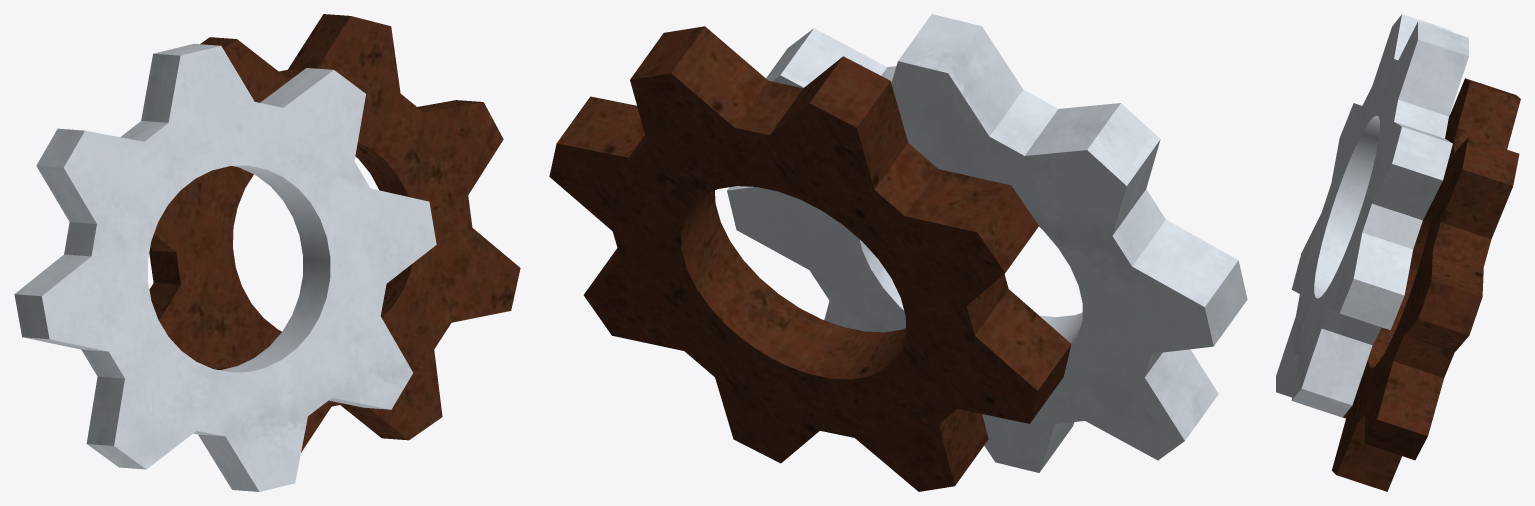
File: gear.glb
3 renders of one model, left to right at view 1: azimuth 30°, elevation 25°; view 2: azimuth 150°, elevation 25°; view 3: azimuth 270°, elevation 25°, orthographic. The views are drawn at different scales.
Parts seen in each view (by area): view 1: Gear, GearRust; view 2: GearRust, Gear; view 3: Gear, GearRust.
Part boxes in pixels (x1,y1,x2,y2): Gear: (14,43,436,491); GearRust: (149,14,520,452); GearRust: (549,26,1071,491); Gear: (727,14,1247,472); Gear: (1276,14,1468,417); GearRust: (1332,78,1520,491).
Size of the model in its own units: 0.2456 by 0.1952 by 0.1129.
2 materials, 2 textured.
